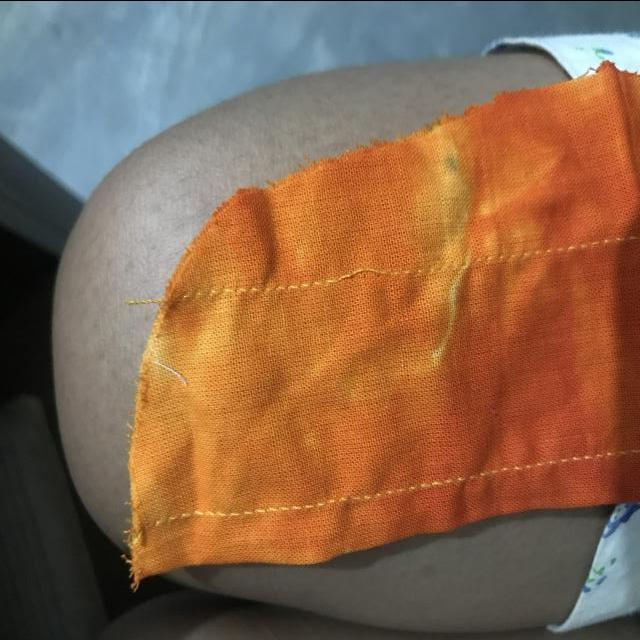Skip: (332, 254, 399, 304)
